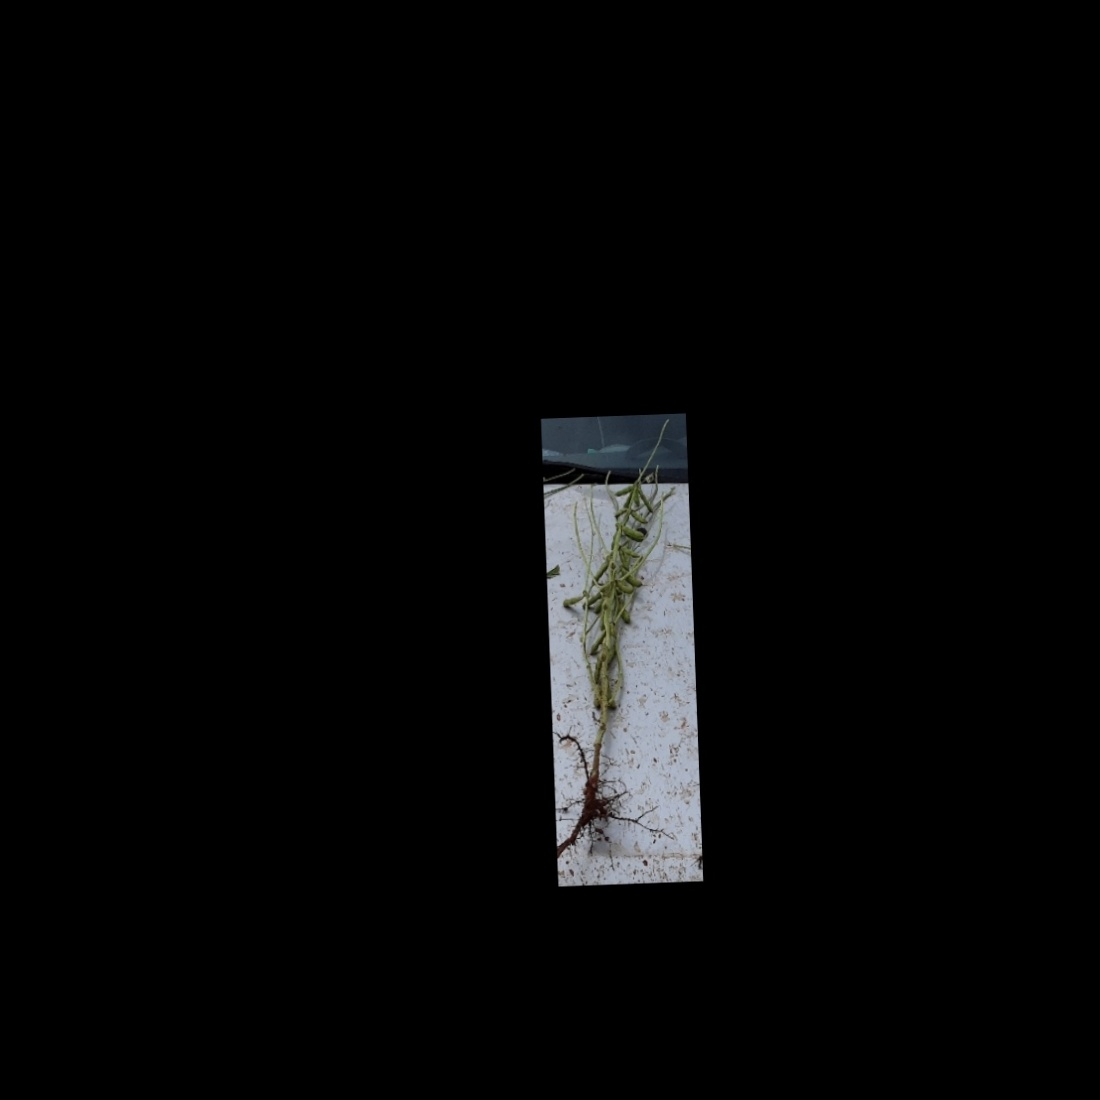pod: (635, 482, 655, 516), (586, 627, 609, 656), (620, 522, 647, 545), (588, 651, 605, 685), (618, 543, 644, 564), (614, 577, 637, 599), (613, 482, 639, 500)
soy: (550, 462, 696, 840)
